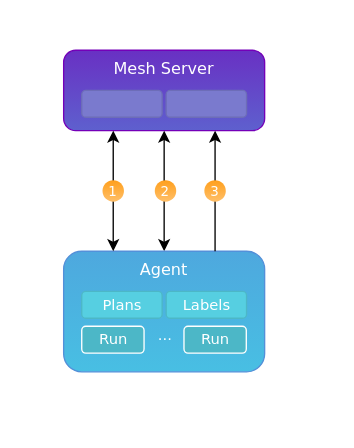
The diagram is 354 pixels wide and 448 high, and some of its shapes have lost their labels. The centre of each missing label's shape, as x and y in pixels:
API: (206,103)
Routines: (121,103)
